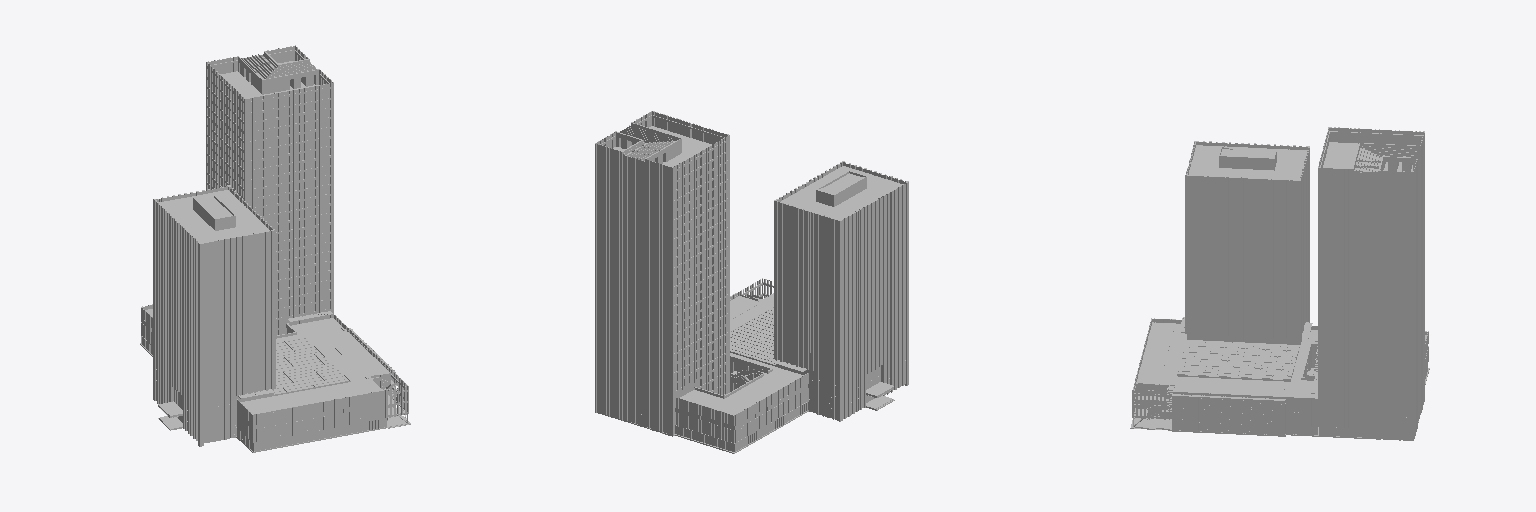
The picture shows the model from 3 angles: view 1: azimuth 30°, elevation 25°; view 2: azimuth 150°, elevation 25°; view 3: azimuth 270°, elevation 25°; orthographic projection.
Parts seen in each view (by area): view 1: JZ_JX_11; view 2: JZ_JX_11; view 3: JZ_JX_11.
Part boxes in pixels (x1,y1,x2,y2): JZ_JX_11: (140,45,410,452); JZ_JX_11: (595,111,908,453); JZ_JX_11: (1130,127,1429,440).
Bounding box in the file's own units: 8743 × 10646 × 10646.